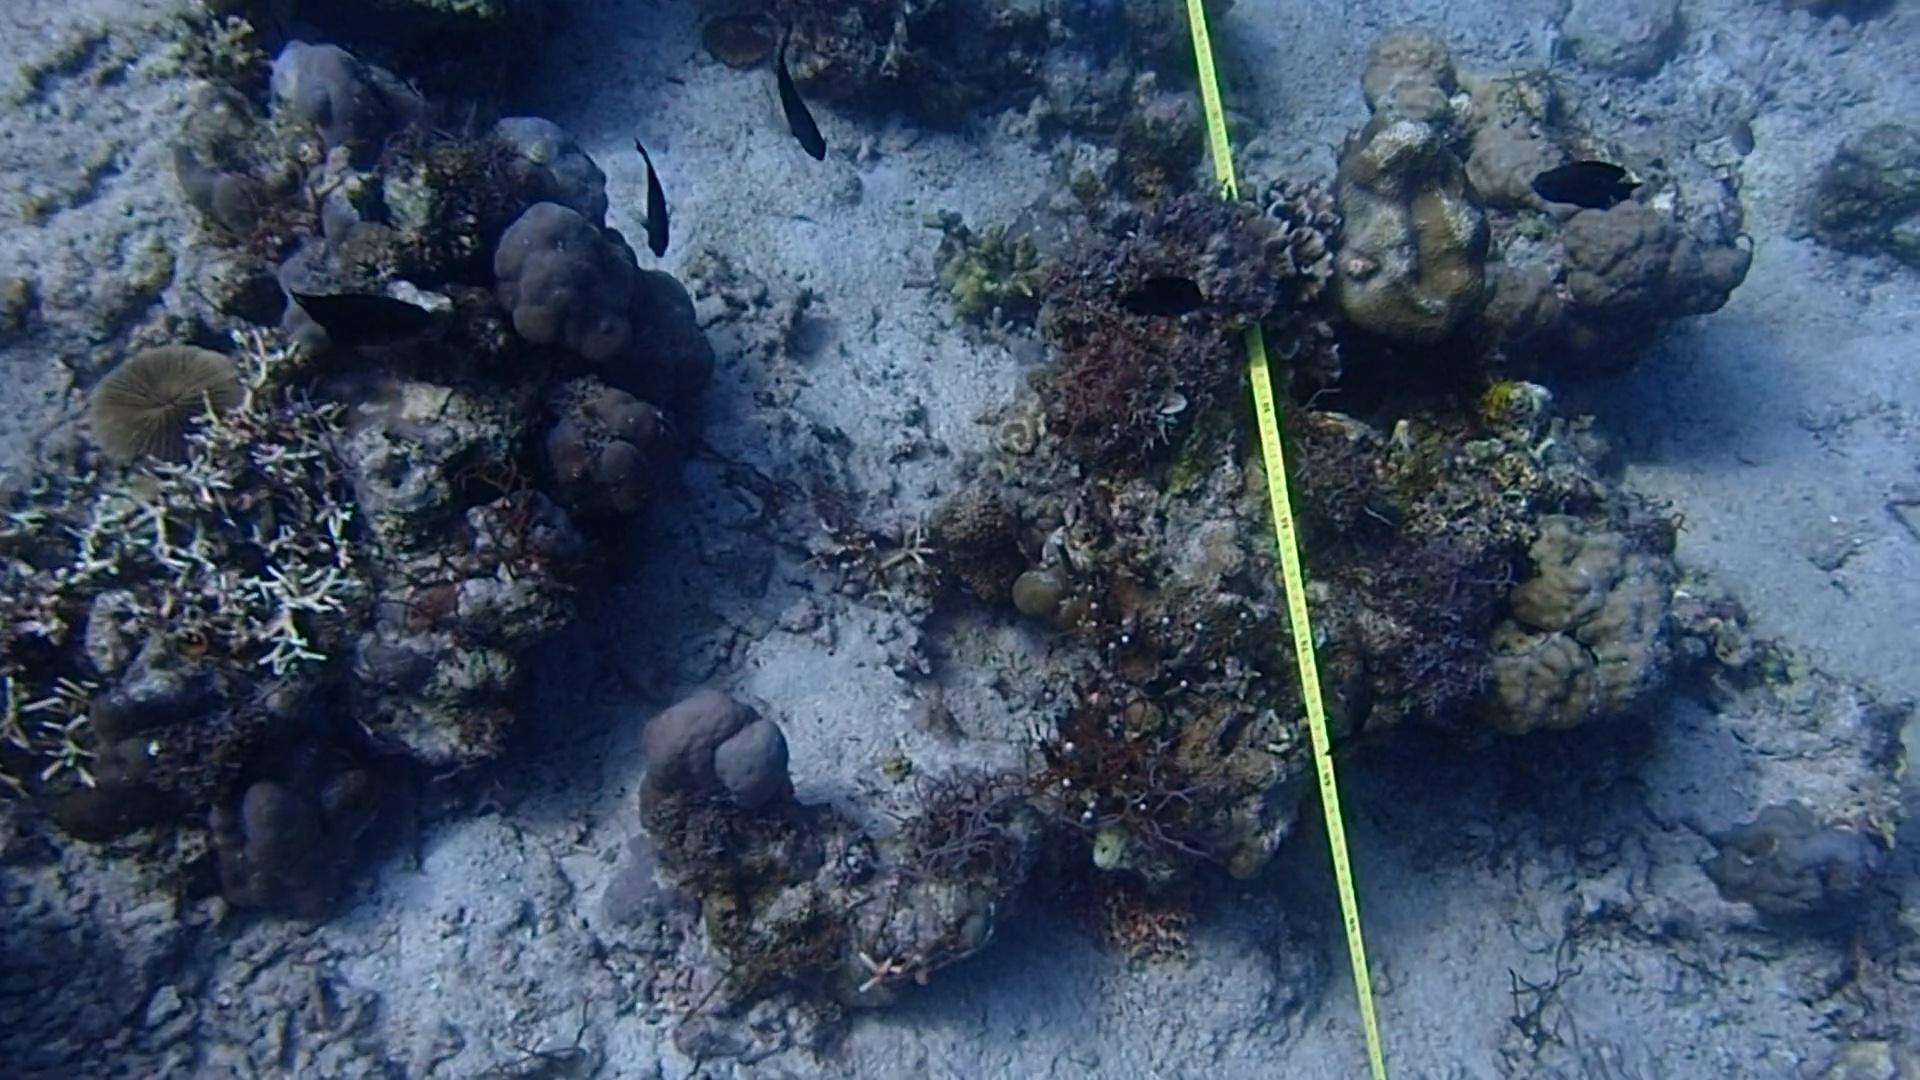Dark Fish: (295, 265, 429, 361), (1523, 145, 1650, 235), (611, 141, 698, 253), (1108, 262, 1225, 344), (764, 28, 828, 161), (1325, 669, 1391, 749)
